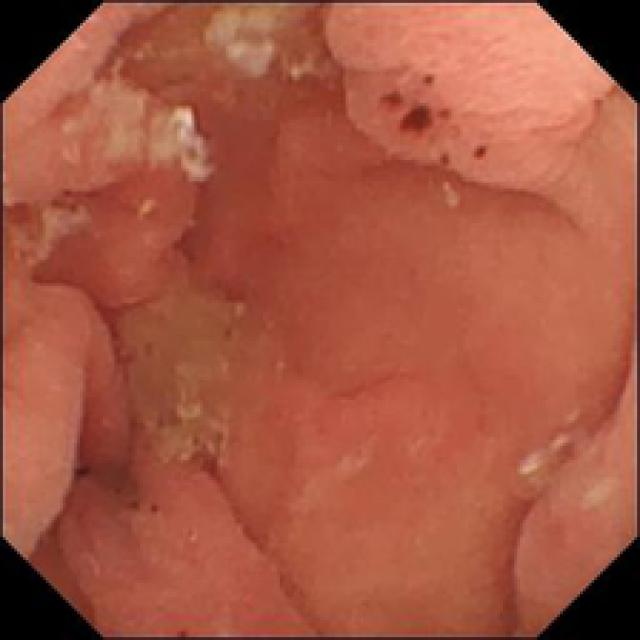bleeding: (368, 60, 488, 169)
